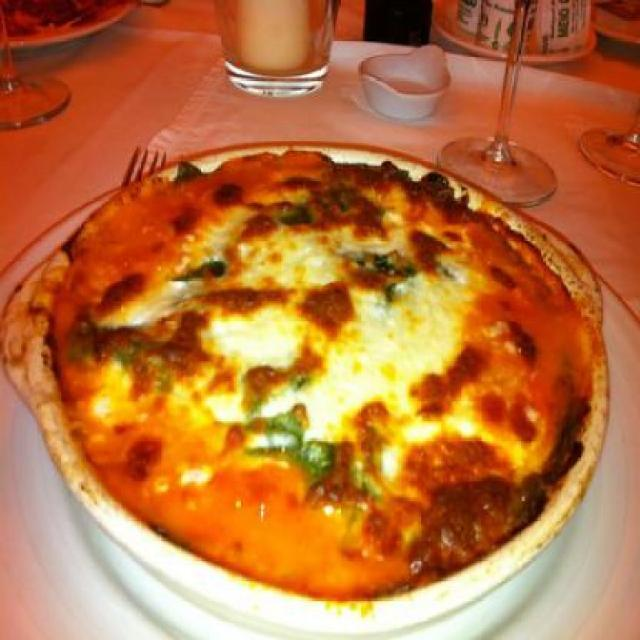Lasagna: (76, 137, 589, 600)
